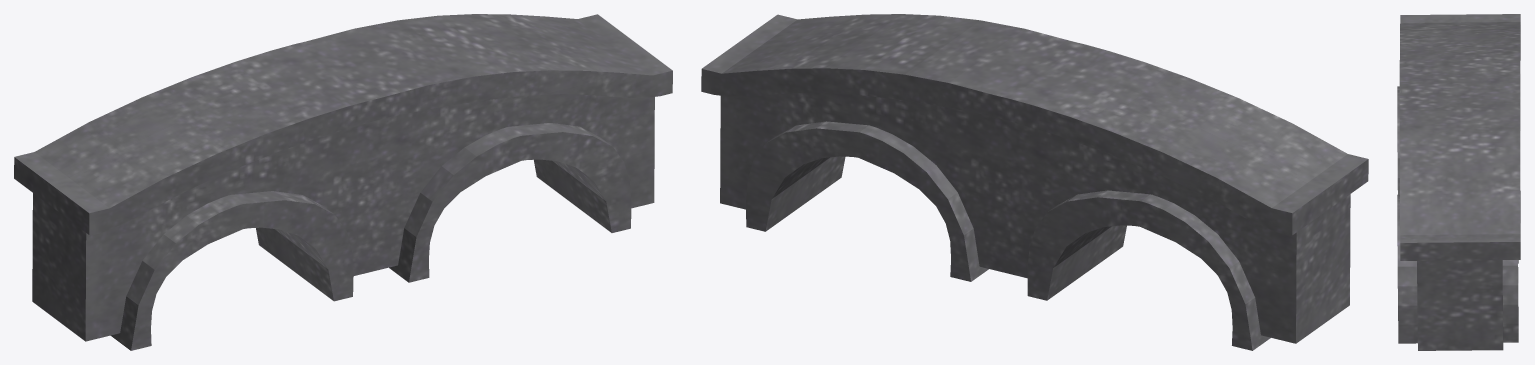
Rendered from Bridge.FBX.
3 views of the same model, side by side, from view 1: azimuth 30°, elevation 25°; view 2: azimuth 150°, elevation 25°; view 3: azimuth 270°, elevation 25° (orthographic). The views are drawn at different scales.
Visible parts, largest first — view 1: Bridge; view 2: Bridge; view 3: Bridge.
Part boxes in pixels (box(x1,y1,x2,y2)): Bridge: box(14, 14, 672, 350); Bridge: box(701, 14, 1368, 350); Bridge: box(1397, 14, 1520, 350).
Size of the model in its own units: 70.47 by 22.35 by 16.13.
Materials: 1 (1 with a texture image).
